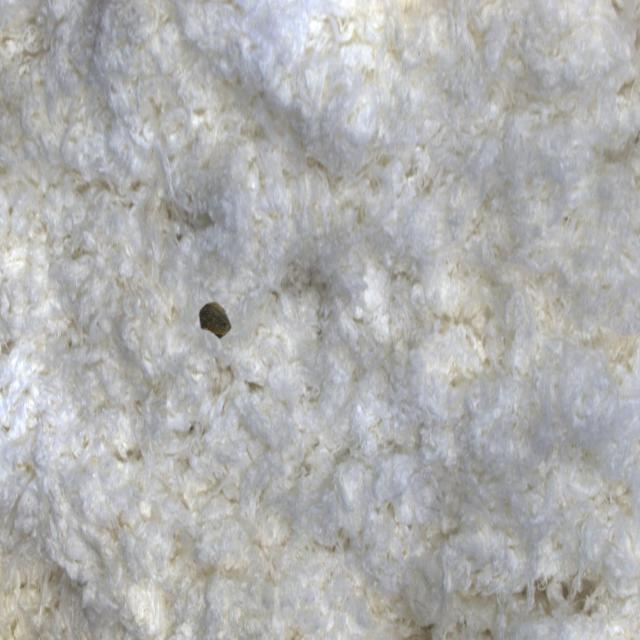dust: (190, 282, 249, 362)
